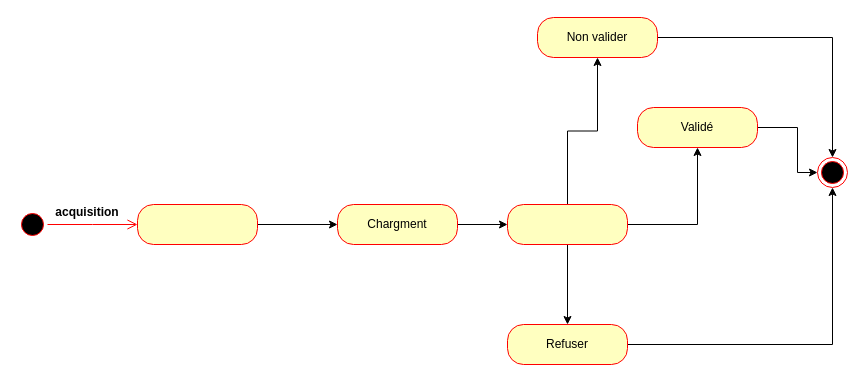
This 865x382 diagram has some shape labels left out. The box of each missing label's shape, as (x1, y1, x2, y2) in pixels:
Acquis: (136, 204, 258, 244)
En qualification: (506, 204, 628, 244)
